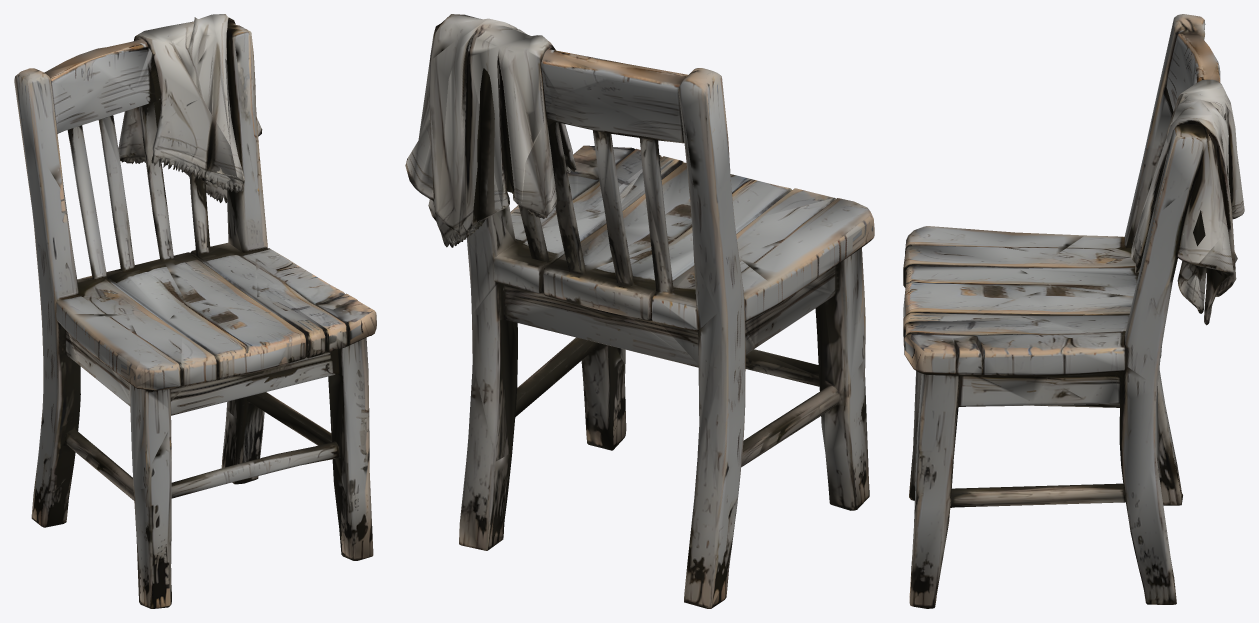
Rendered from lhi_daniel_chair.glb.
The picture shows the model from 3 angles, left to right: view 1: azimuth 30°, elevation 25°; view 2: azimuth 150°, elevation 25°; view 3: azimuth 270°, elevation 25°; orthographic projection. The views are drawn at different scales.
Visible parts, largest first — view 1: material; view 2: material; view 3: material.
Boxes of the visible parts, x1,y1,x2,y2 form: material: (14,14,376,608); material: (405,14,874,608); material: (903,14,1244,608).
Size of the model in its own units: 0.5503 by 0.9441 by 0.5984.
1 material, 1 textured.
